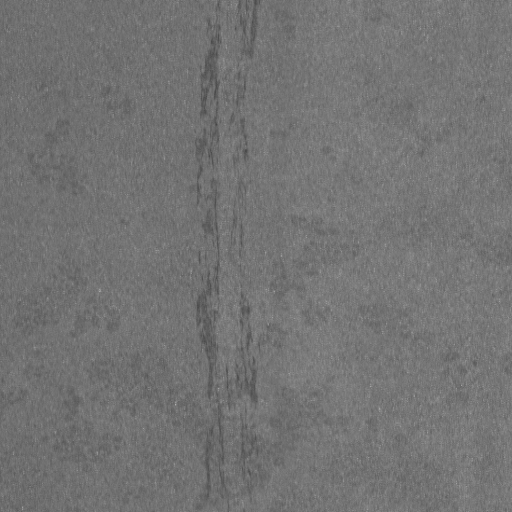zongxianghuashang: (196, 28, 248, 501)
